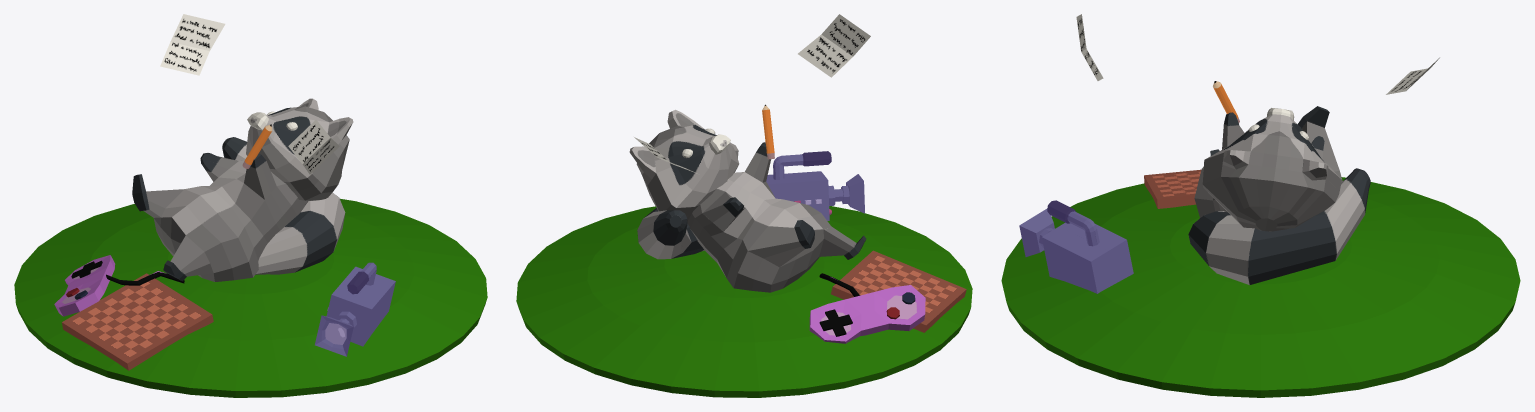
The model's file is dog.glb.
3 views of the same model, side by side, from view 1: azimuth 30°, elevation 25°; view 2: azimuth 150°, elevation 25°; view 3: azimuth 270°, elevation 25° (orthographic). The views are drawn at different scales.
Parts seen in each view (by area): view 1: ground, body, game board, head, tail, cinema camera, paper, controller, pencil; view 2: ground, body, head, controller, game board, cinema camera, paper, tail, pencil; view 3: ground, head, tail, cinema camera, body, game board, paper.
Part boxes in pixels (x1,y1,x2,y2): ground: (14, 198, 487, 397); body: (132, 153, 308, 281); game board: (62, 273, 213, 370); head: (246, 98, 353, 200); tail: (222, 137, 345, 274); cinema camera: (315, 262, 395, 356); paper: (160, 14, 339, 174); controller: (54, 255, 184, 316); pencil: (242, 124, 272, 168); ground: (516, 206, 972, 397); body: (687, 142, 866, 292); head: (629, 109, 739, 220); controller: (809, 273, 925, 343); game board: (831, 250, 966, 332); cinema camera: (766, 151, 864, 220); paper: (634, 14, 870, 173); tail: (637, 208, 704, 259); pencil: (762, 104, 774, 159); ground: (1001, 177, 1520, 397); head: (1202, 114, 1341, 231); tail: (1188, 168, 1370, 285); cinema camera: (1019, 200, 1133, 293); body: (1194, 106, 1342, 217); game board: (1144, 169, 1201, 208); paper: (1076, 14, 1439, 94).
Bounding box in the file's own units: 3.11 × 1.76 × 3.11.
Materials: 7 (6 with a texture image).
